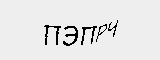П: (42, 23, 60, 47), (81, 25, 95, 46)
Р: (95, 22, 109, 47)
Ч: (107, 18, 122, 41)
Э: (63, 23, 78, 49)
